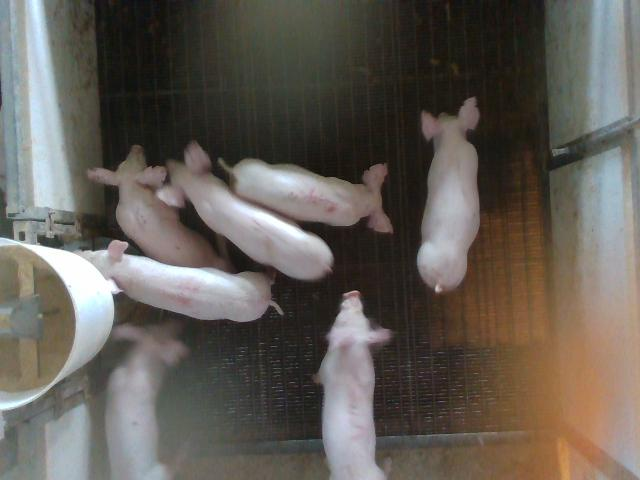pig-3: (316, 291, 392, 479)
pig-4: (78, 241, 280, 321)
pig-5: (219, 159, 392, 232)
